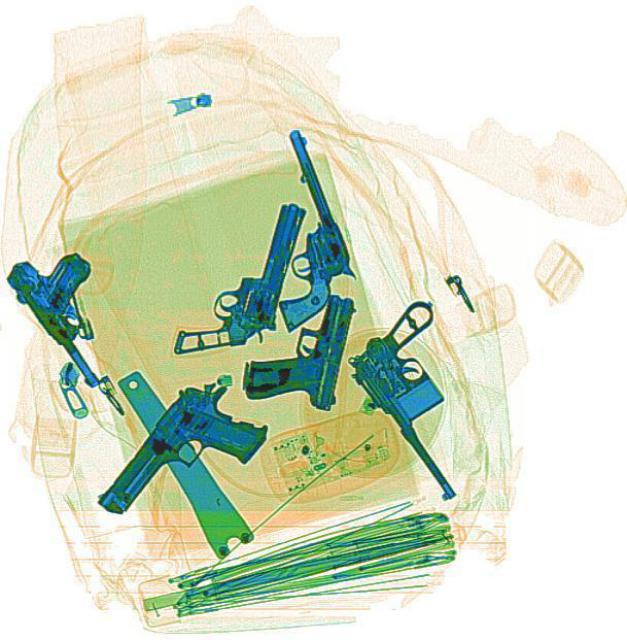Gun: (333, 296, 529, 502), (91, 363, 278, 555), (215, 126, 370, 332), (170, 182, 305, 372), (0, 236, 149, 389), (237, 281, 356, 415)
